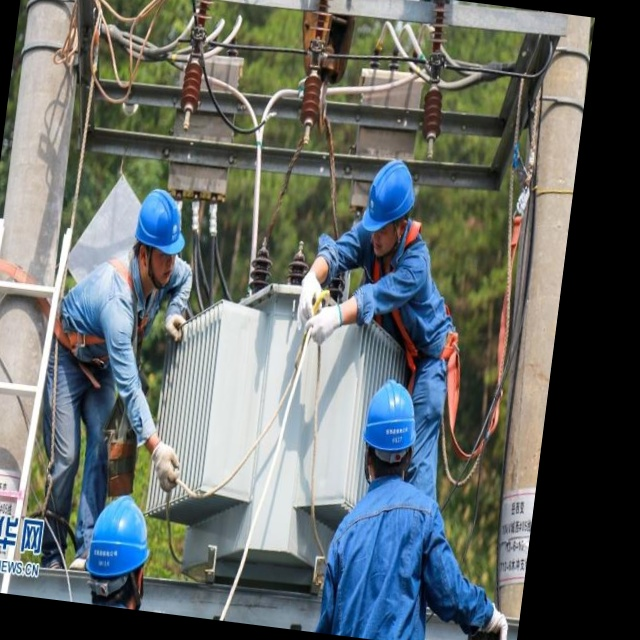Con_Casco: (82, 493, 157, 611), (130, 188, 191, 288)
